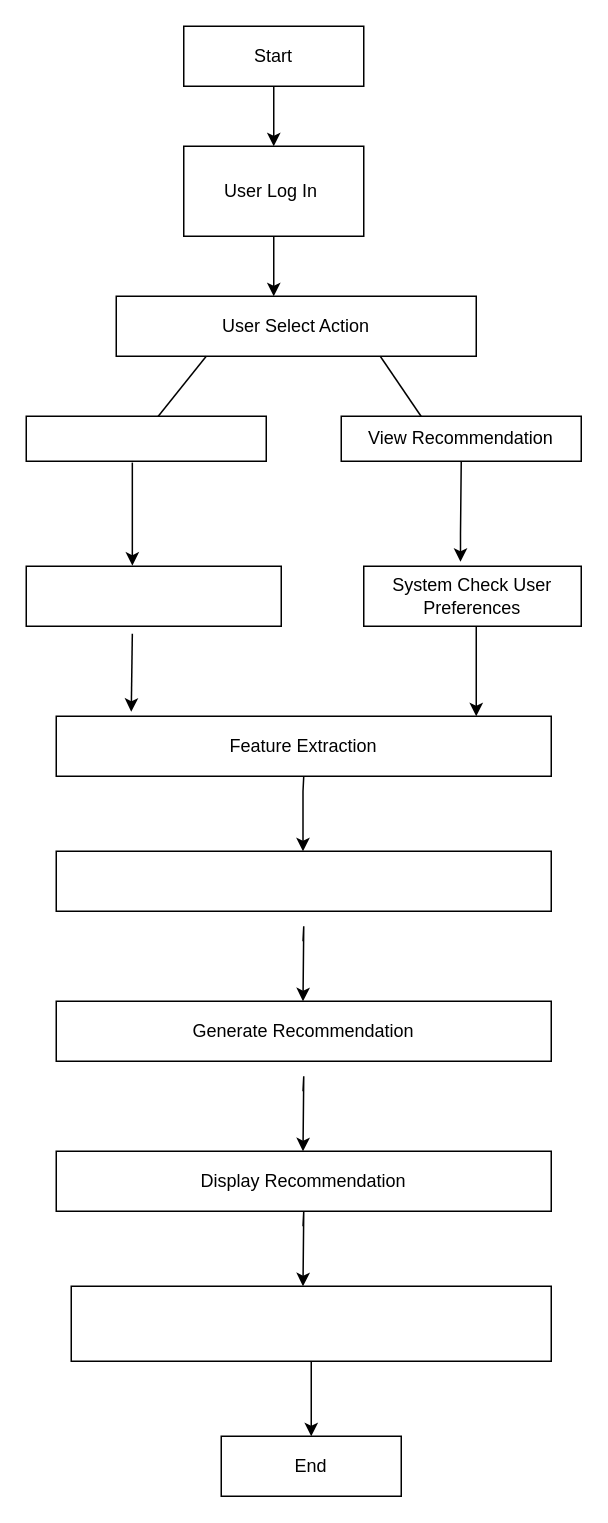
The diagram is 608 pixels wide and 1523 high, and some of its shapes have lost their labels. The centre of each missing label's shape, as x and y in pixels:
"Search Song" belongs at pixel 145 438.
"Search Song (Optional)" belongs at pixel 153 595.
"Similarity Calculator" belongs at pixel 303 880.
"User Interacts with Song" belongs at pixel 310 1323.
